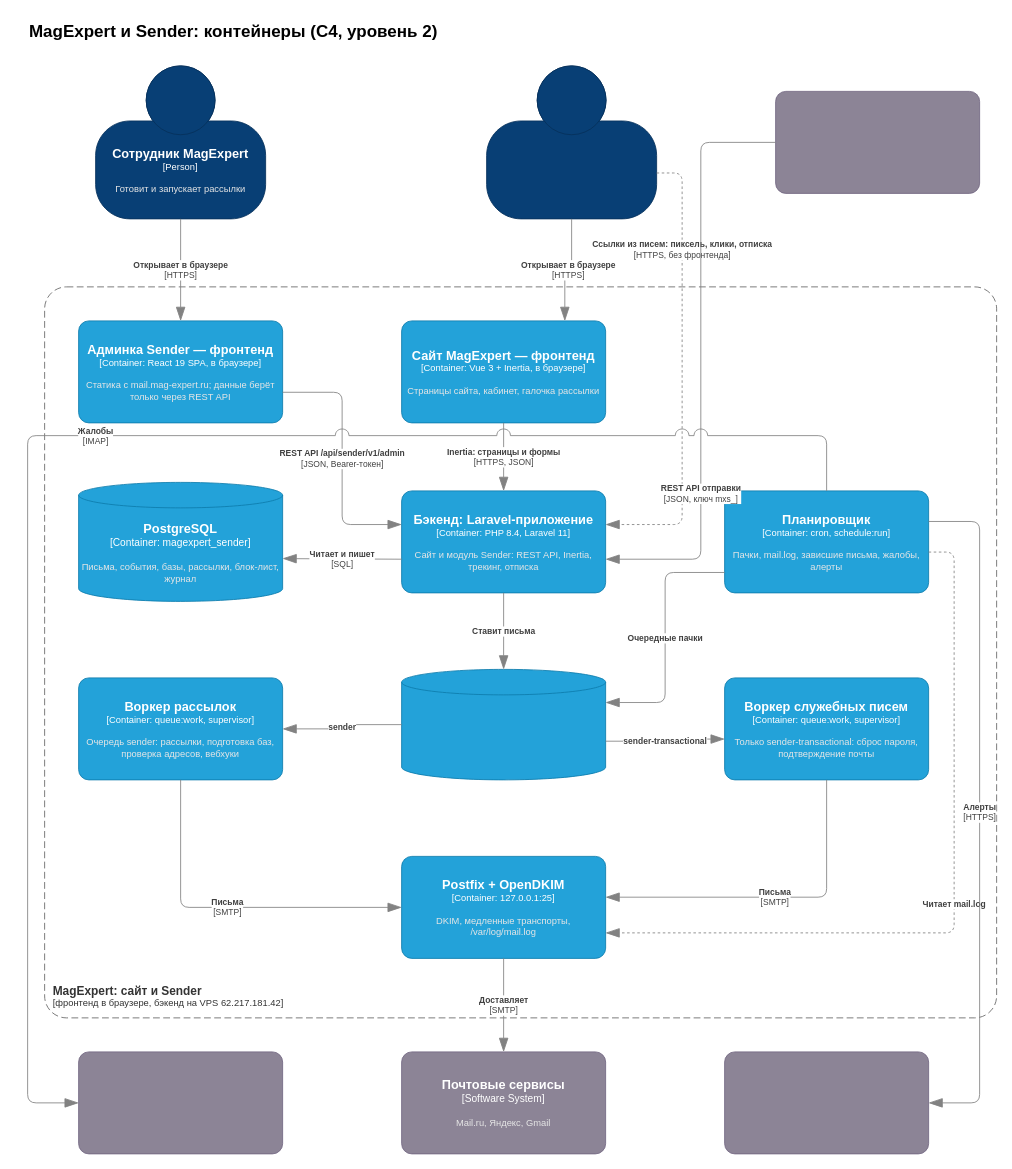
The diagram is 1012 pixels wide and 1169 high, and some of its shapes have lost their labels. The shapes that lost their labels are listed below. From the top down, each one's box as (x1, y1, x2, y2) in pixels, then its label:
(486, 65, 657, 219): Врач [Person] Пользуется сайтом, получает письма
(775, 91, 980, 193): Внешние приложения [Software System] CRM и другие проекты
(401, 669, 606, 780): Redis [Container: две очереди] sender-transactional, sender
(78, 1051, 283, 1154): Ящик FBL [Software System] Отчёты о жалобах, IMAP
(724, 1051, 929, 1154): Telegram [Software System] Алерты
